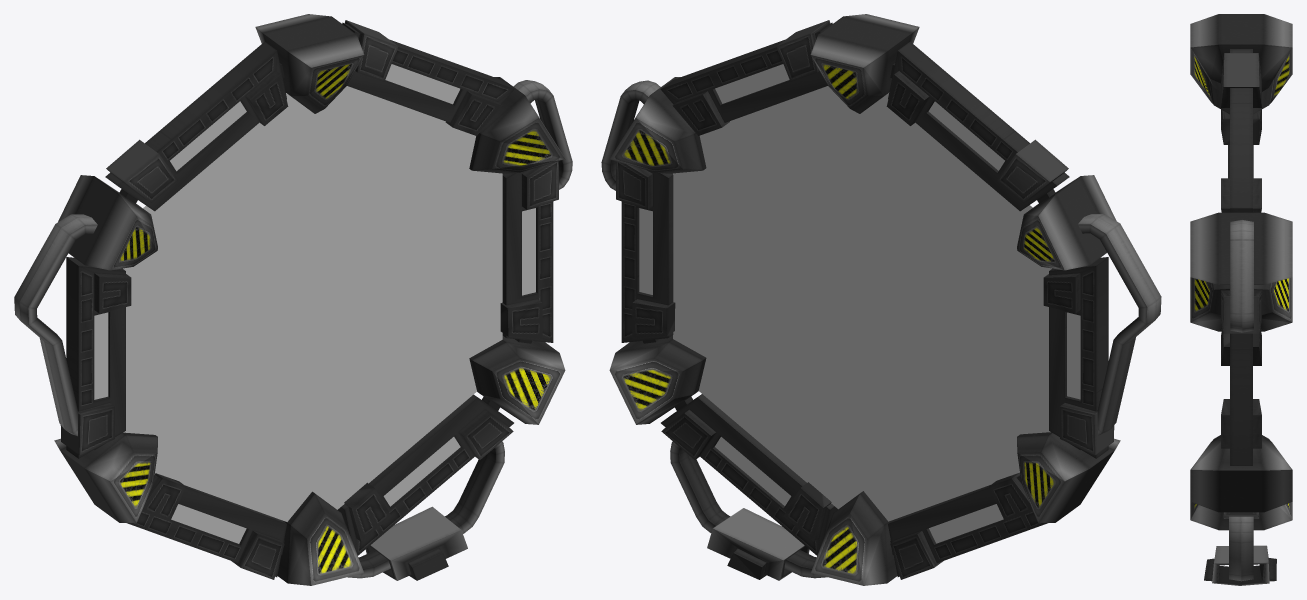
File: PlateHexa.FBX
The picture shows the model from 3 angles, left to right: view 1: azimuth 30°, elevation 25°; view 2: azimuth 150°, elevation 25°; view 3: azimuth 270°, elevation 25°; orthographic projection. The views are drawn at different scales.
Parts seen in each view (by area): view 1: PlateHexa; view 2: PlateHexa; view 3: PlateHexa.
Boxes of the visible parts, x1,y1,x2,y2 form: PlateHexa: (14,14,572,585); PlateHexa: (601,14,1161,585); PlateHexa: (1190,14,1292,585).
Bounding box in the file's own units: 39 × 37.7 × 6.88.
